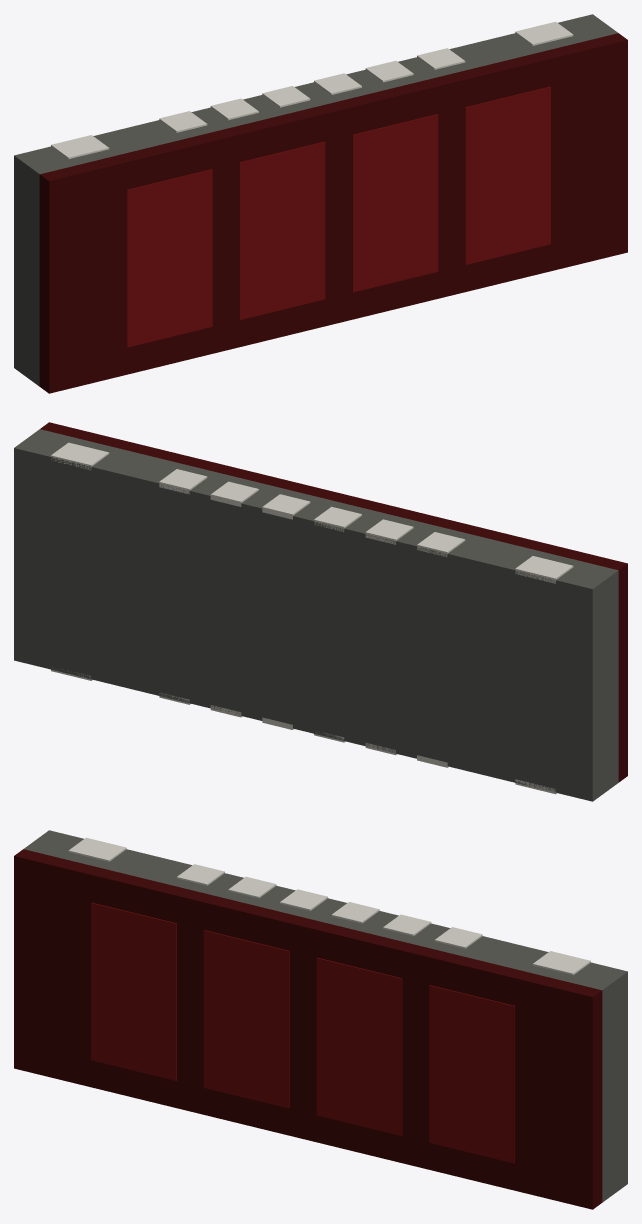
File: .xl_sa2401.step.glb
3 views of the same model, one above another, from view 1: azimuth 30°, elevation 25°; view 2: azimuth 150°, elevation 25°; view 3: azimuth 330°, elevation 25° (orthographic).
Visible parts, largest first — view 1: o1.2, o1.1, o1.5, o1.4, o1.3, o1.6, o1.22, o1.21, o1.15, o1.16, o1.17, o1.20 (+2 smaller); view 2: o1.1, o1.2, o1.21, o1.22, o1.19, o1.16, o1.20, o1.18, o1.15, o1.17; view 3: o1.2, o1.1, o1.4, o1.5, o1.3, o1.6, o1.21, o1.22, o1.15, o1.18, o1.19, o1.20 (+2 smaller).
Boxes of the visible parts, x1,y1,x2,y2 form: o1.2: (39, 33, 627, 393); o1.1: (14, 14, 617, 386); o1.5: (352, 114, 438, 292); o1.4: (239, 141, 325, 319); o1.3: (127, 169, 212, 347); o1.6: (465, 86, 550, 264); o1.22: (515, 21, 573, 45); o1.21: (51, 135, 109, 159); o1.15: (159, 111, 207, 132); o1.16: (210, 98, 258, 120); o1.17: (262, 86, 310, 107); o1.20: (417, 48, 465, 69); o1.1: (14, 429, 618, 801); o1.2: (40, 422, 627, 782); o1.21: (515, 556, 573, 583); o1.22: (51, 442, 109, 470); o1.19: (210, 481, 258, 506); o1.16: (365, 519, 413, 544); o1.20: (159, 469, 207, 494); o1.18: (262, 494, 310, 519); o1.15: (417, 532, 465, 556); o1.17: (314, 506, 361, 531); o1.2: (14, 849, 602, 1209); o1.1: (24, 830, 627, 1202); o1.4: (203, 930, 289, 1108); o1.5: (316, 957, 402, 1135); o1.3: (91, 902, 176, 1080); o1.6: (429, 985, 514, 1163); o1.21: (68, 837, 126, 861); o1.22: (532, 951, 590, 975); o1.15: (176, 864, 224, 885); o1.18: (331, 902, 379, 923); o1.19: (383, 914, 431, 936); o1.20: (434, 927, 482, 948).
Bounding box in the file's own units: 0.0285 × 0.0102 × 0.00305.
